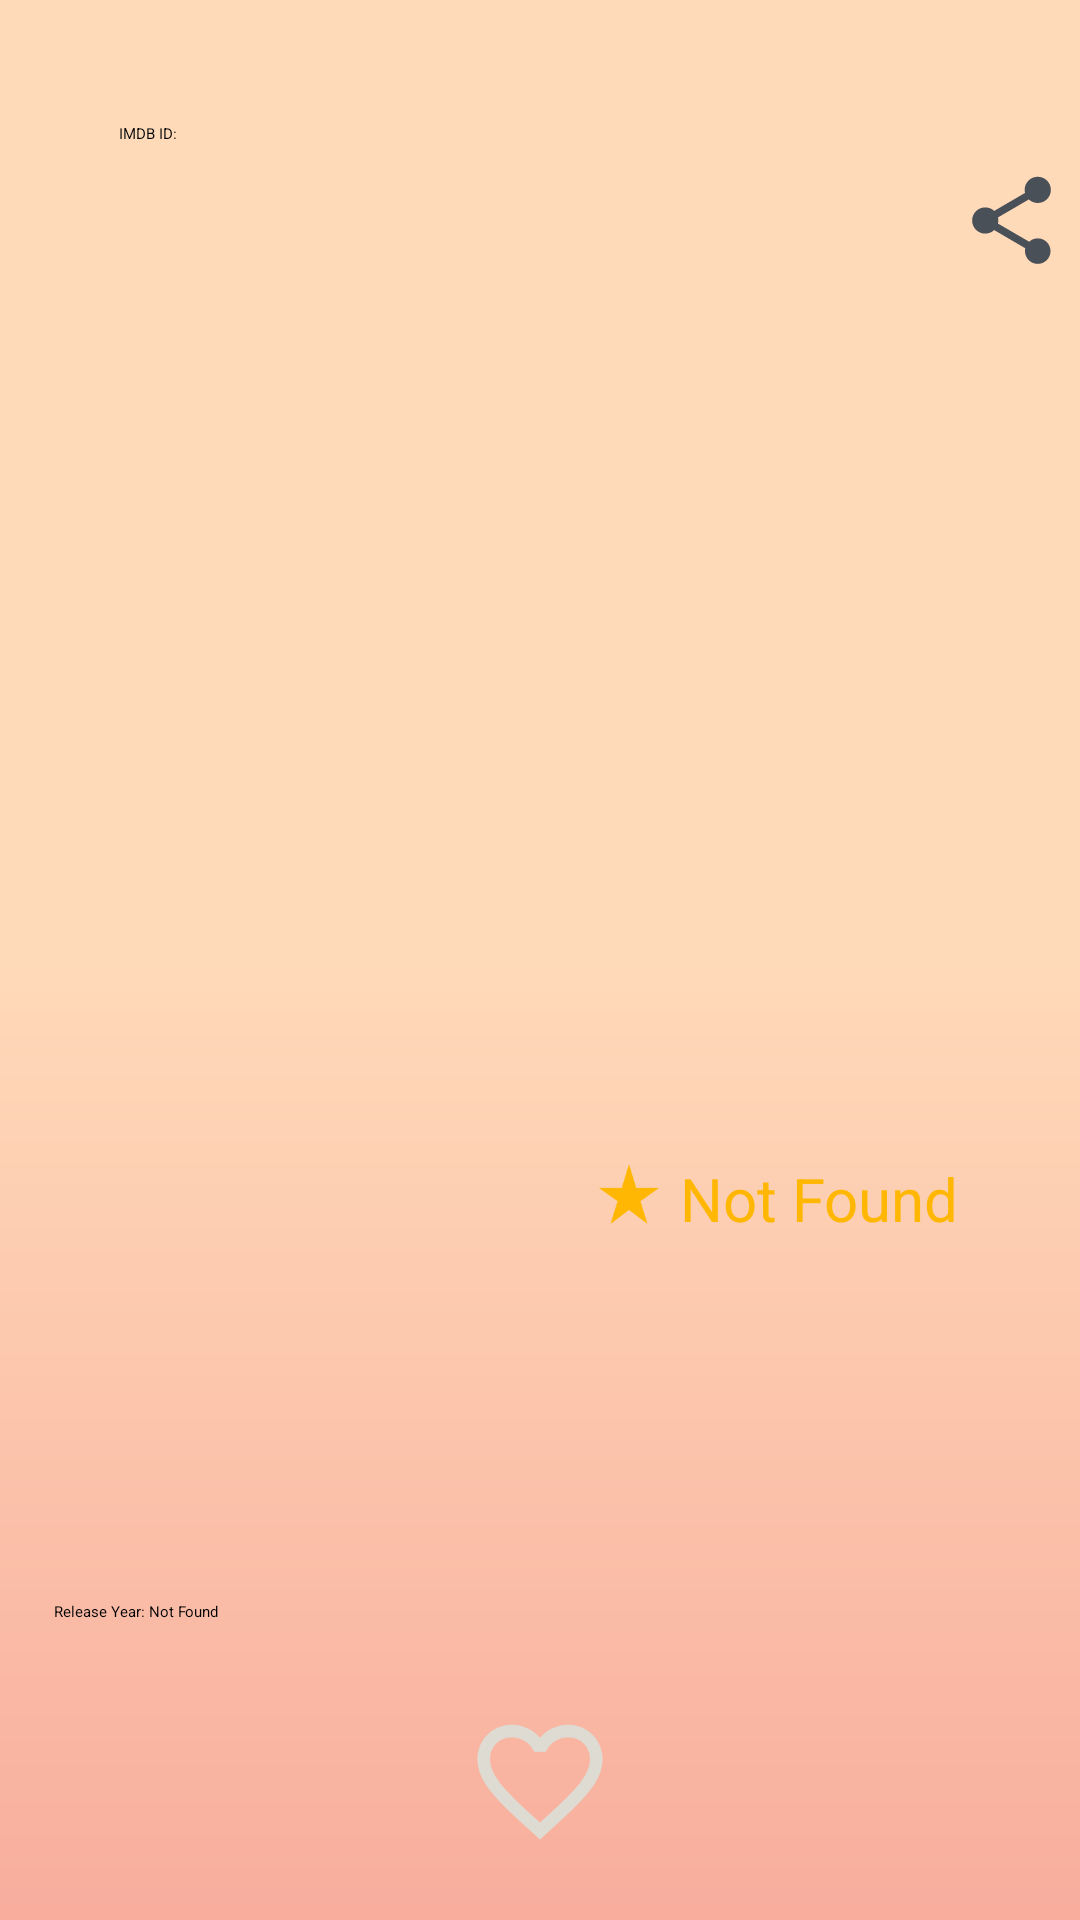

Icon click points for this 1080w x 1920h phone screenshot, format point (x, y):
share: point (1011, 220)
star rate: point (629, 1194)
